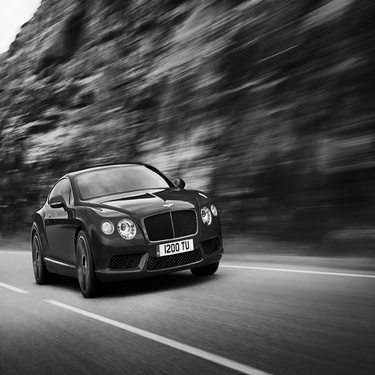car: (19, 158, 226, 304)
